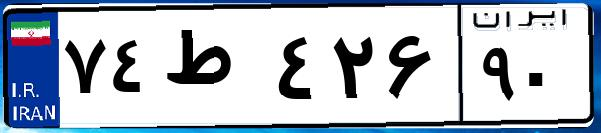0: (525, 38, 570, 115)
2: (330, 28, 385, 110)
4: (270, 28, 330, 110), (110, 28, 158, 98)
6: (385, 28, 445, 110)
7: (57, 26, 110, 100)
9: (475, 38, 525, 113)
ط: (158, 20, 270, 120)
